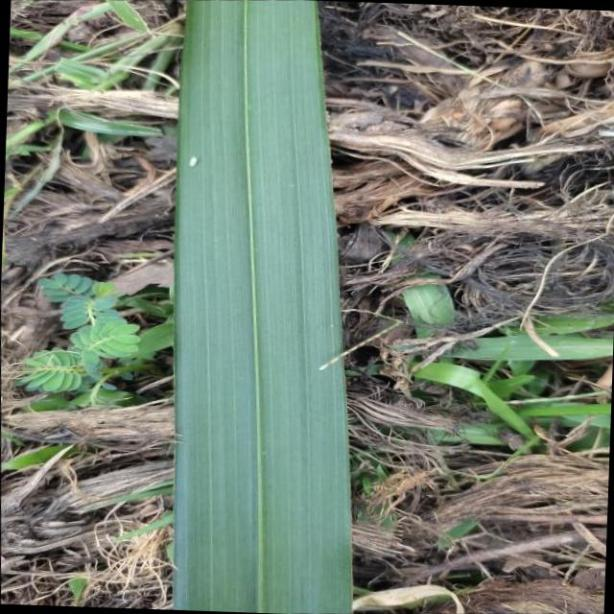Healthy: (171, 1, 355, 614)
